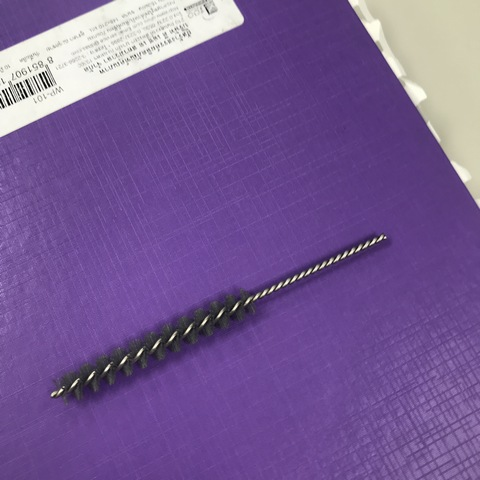Twist Brush-A: (41, 229, 391, 402)
